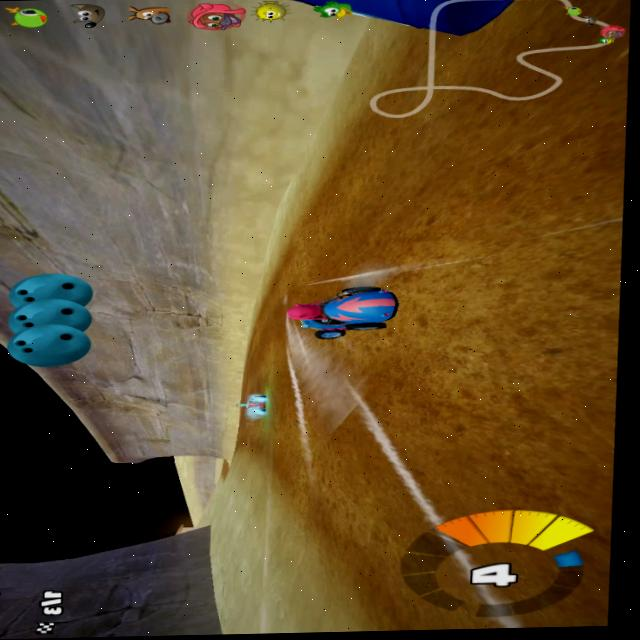enemy_kart: (242, 390, 274, 419)
player_kart: (281, 277, 397, 338)
track: (394, 25, 639, 338), (280, 334, 622, 522), (320, 515, 611, 632), (317, 175, 401, 278), (338, 114, 402, 177), (247, 326, 281, 388), (236, 422, 278, 459), (284, 239, 316, 277), (258, 288, 280, 327), (218, 464, 232, 475)
